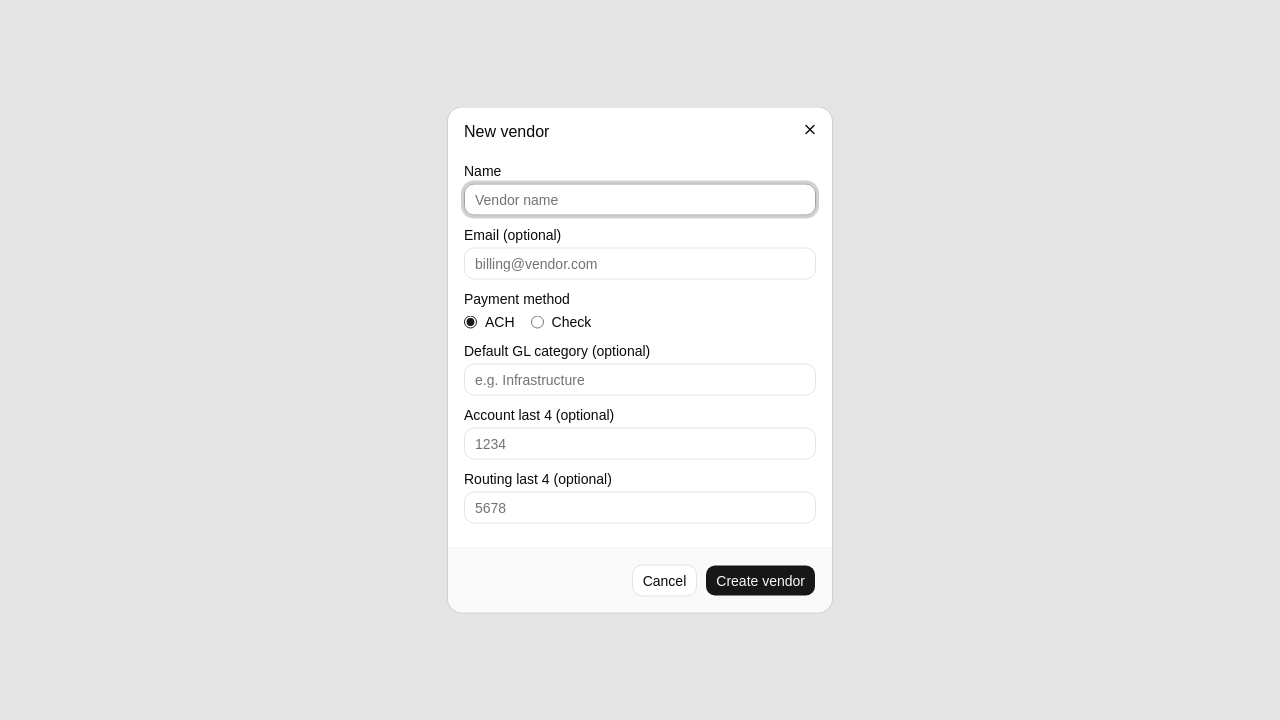
Test: AddVendorDialog › shows a duplicate-name error when an existing vendor name is typed
Type "Acme Corp" into the field with placeholder "Vendor name" at (640,200), box [464,184,816,216]
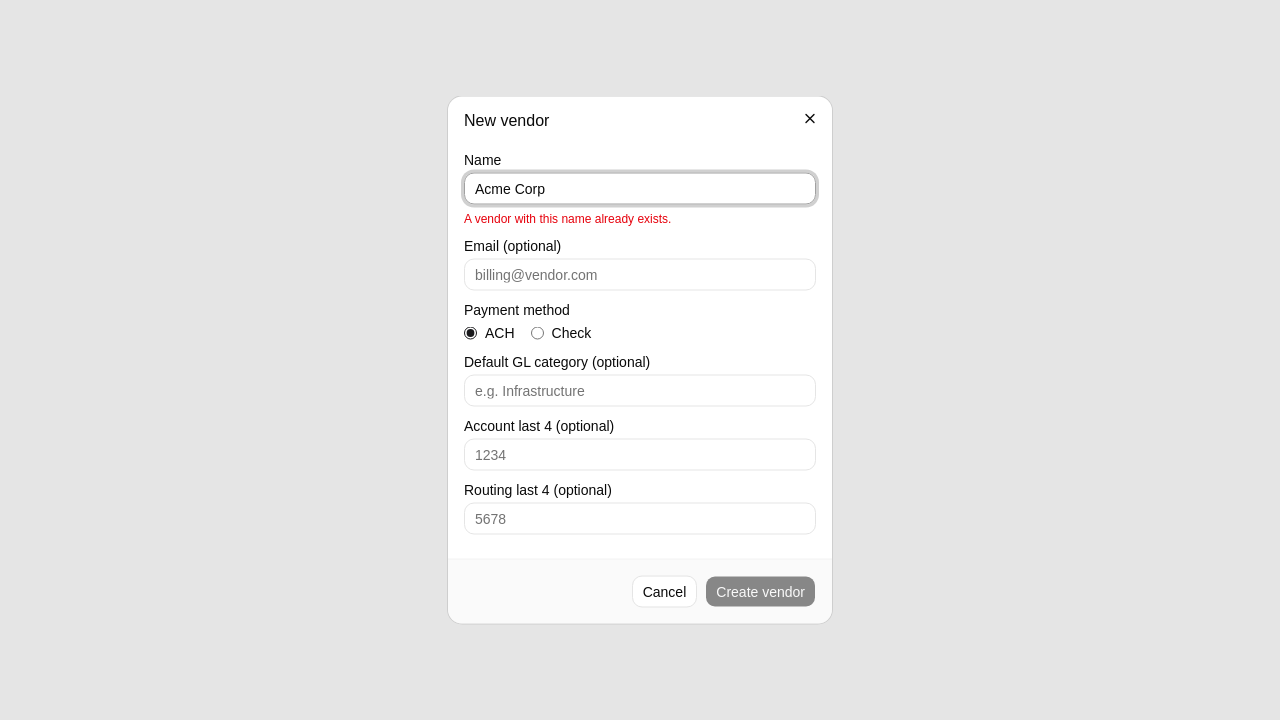
Now the text "A vendor with this name already exists." is shown, box [464,212,671,226]
